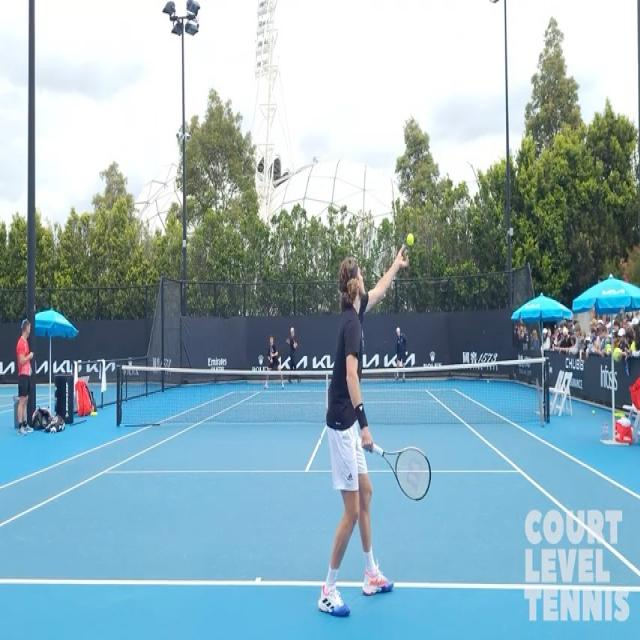serve_toss: (316, 214, 432, 626)
